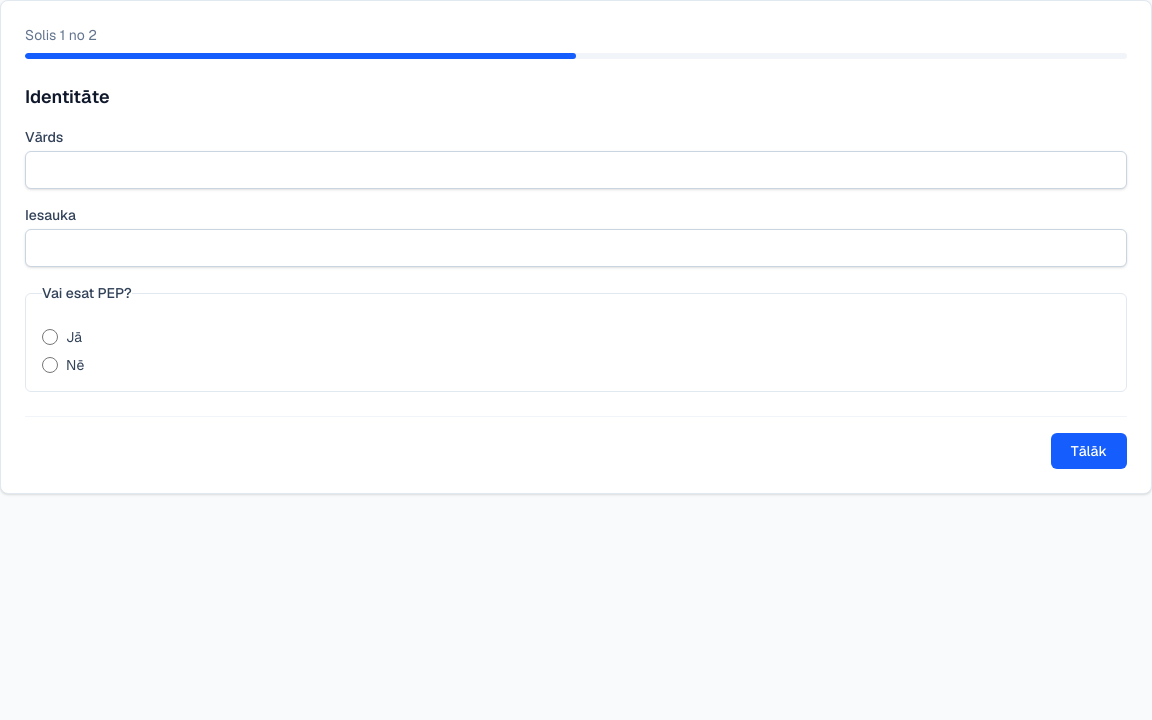
Test: Wizard required fields › asks a PEP for the position it hid from everyone else
Type "Jānis" into the field labelled "Vārds".
click(576, 170); type("Jānis")  # box [25, 151, 1127, 189]
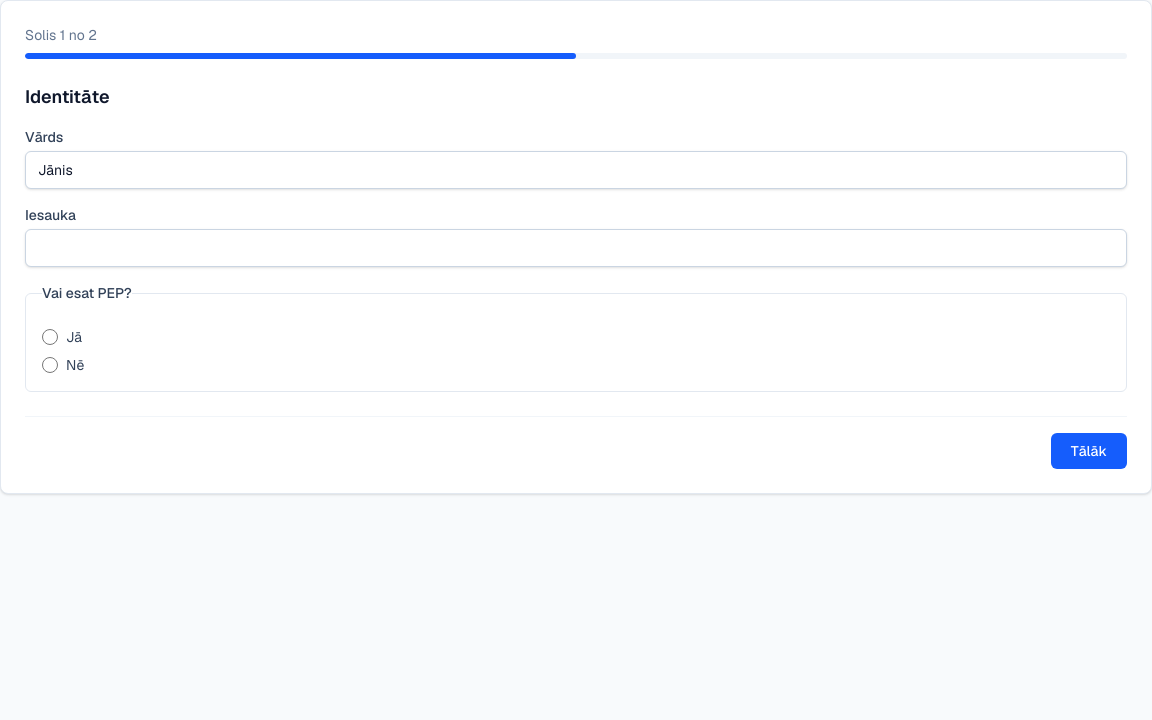
Click the radio button labelled "Jā".
click(50, 337)  # box [42, 329, 58, 345]
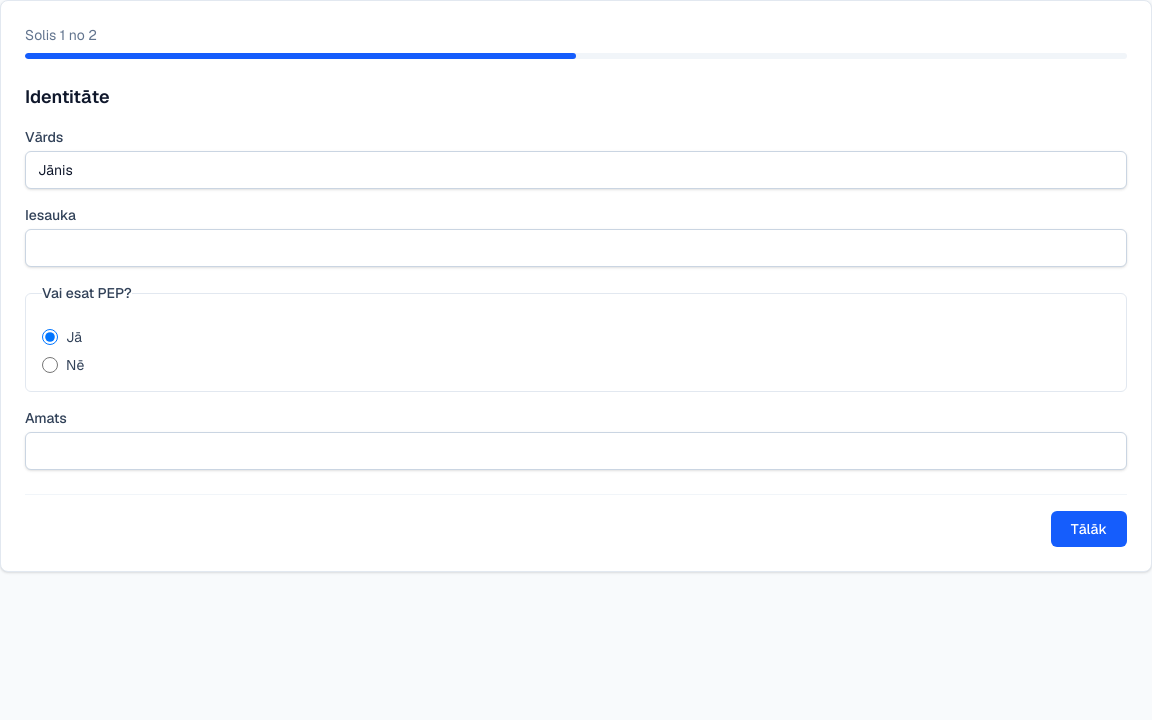
Click the button "Tālāk".
click(1089, 529)  # box [1051, 511, 1127, 547]
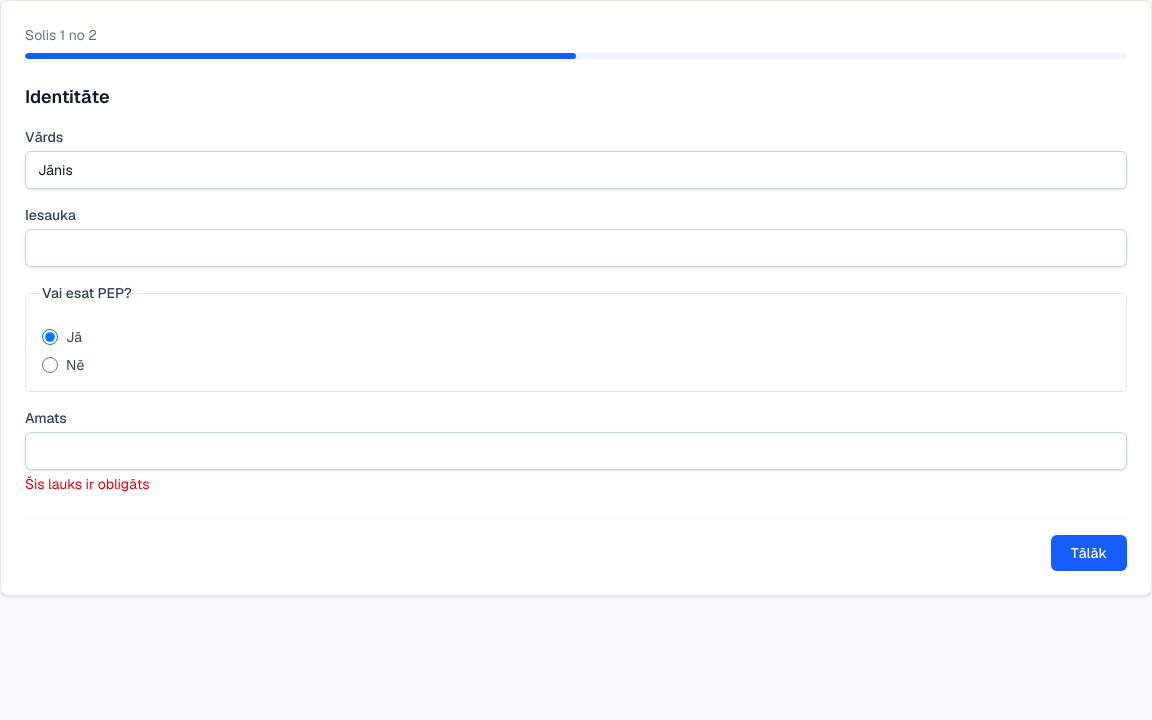
Expected: the heading "Identitāte" is shown, [25, 85, 110, 108]
Now the text "Šis lauks ir obligāts" is shown, box [25, 475, 149, 493]
